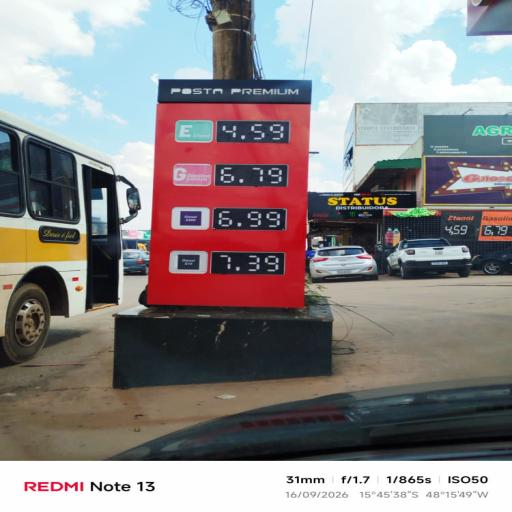ETANOL: (173, 119, 213, 142)
GASOLINA C: (171, 163, 212, 187)
S10: (172, 252, 206, 274)
S500: (174, 207, 208, 228)
placa: (152, 79, 310, 306)
preco: (216, 207, 284, 232), (212, 252, 286, 274), (218, 120, 290, 142), (216, 164, 286, 186)
